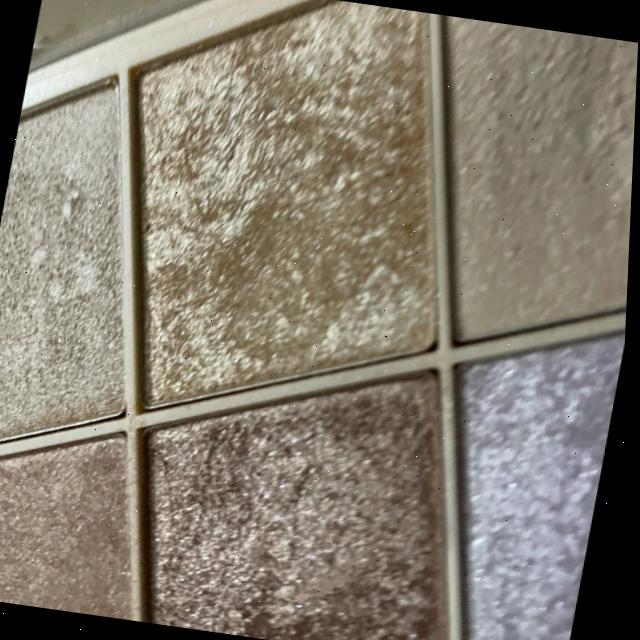highlighter: (68, 0, 505, 463), (91, 309, 529, 640), (348, 9, 640, 382), (391, 260, 631, 640), (0, 61, 191, 473), (0, 390, 209, 625)
